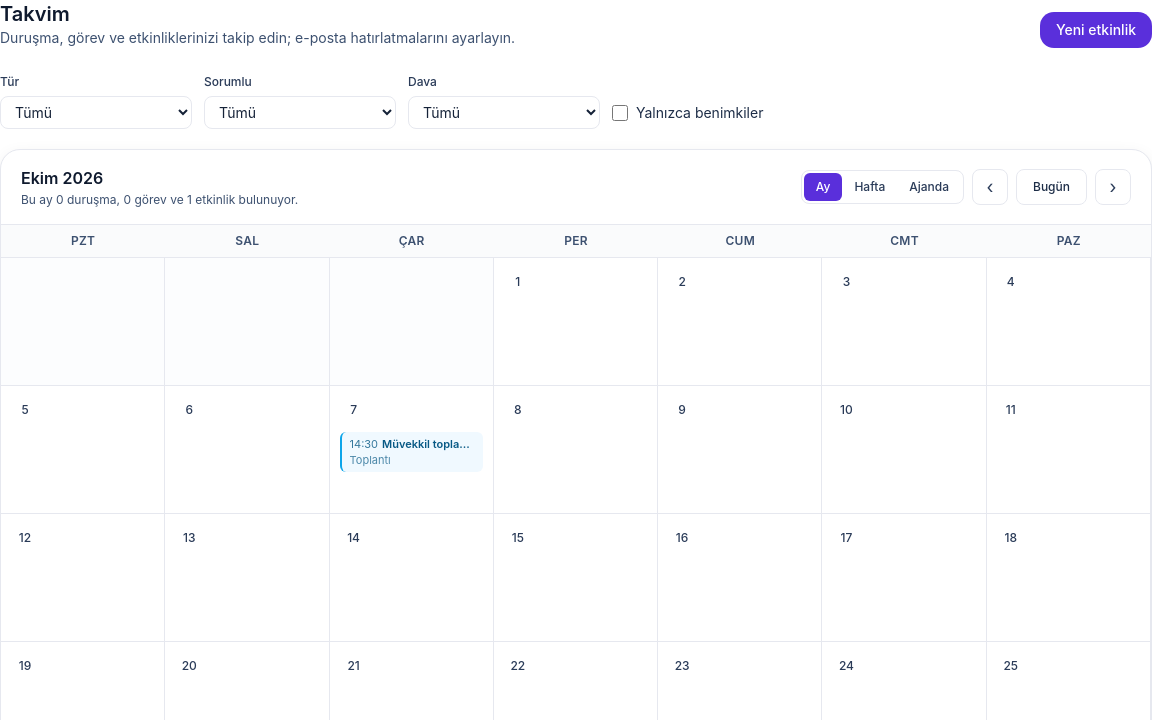
Test case: CalendarView › opens the detail drawer, edits the event and reloads after saving
Click the button "14:30Müvekkil toplantısı Toplantı": [411, 452] box left=340, top=432, right=483, bottom=472
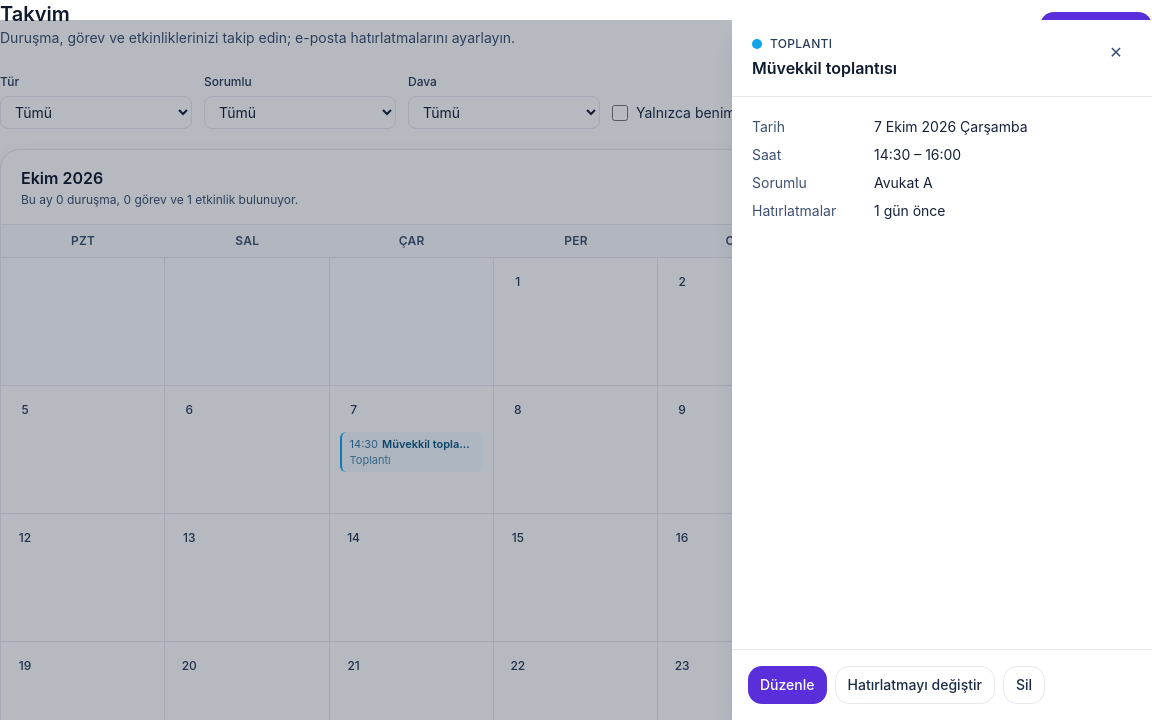
Check: the dialog "Müvekkil toplantısı" shows "14:30 – 16:00", box left=874, top=146, right=961, bottom=163
Click the button "Düzenle": [787, 685] box left=748, top=666, right=826, bottom=704
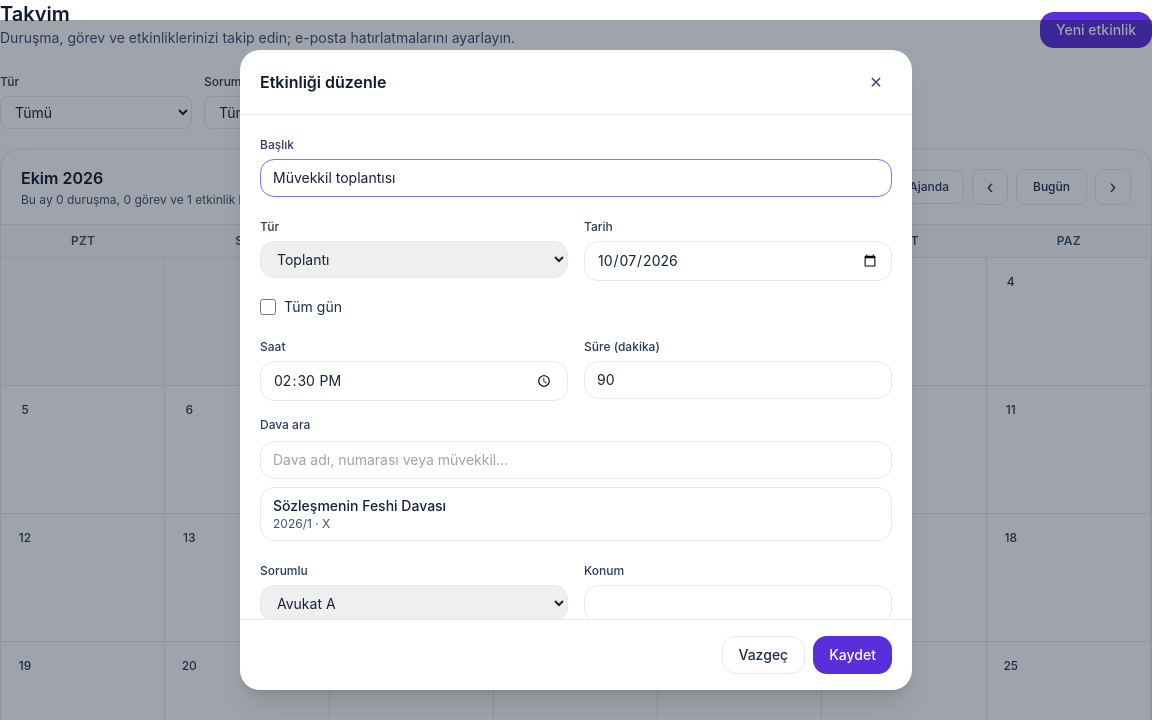
Check: the field labelled "Başlık" holds "Müvekkil toplantısı", box left=260, top=159, right=892, bottom=197
Click the button "Kaydet": [853, 655] box left=813, top=636, right=892, bottom=674
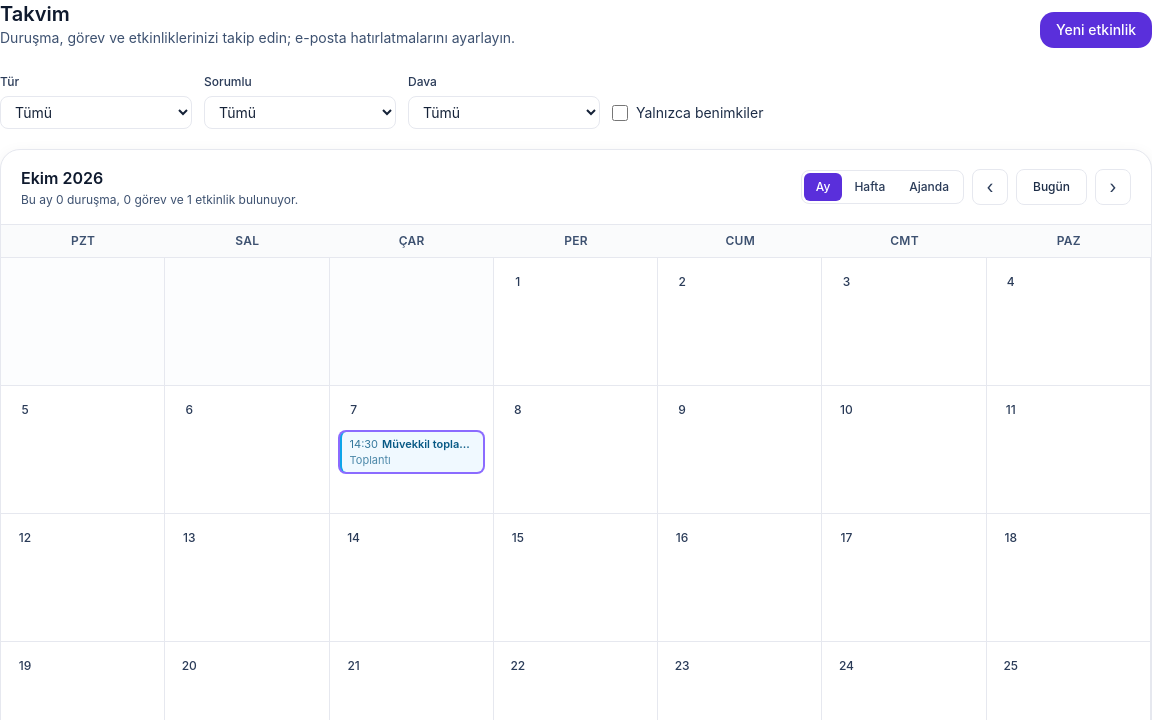
Check: the heading "Etkinliği düzenle" is gone
